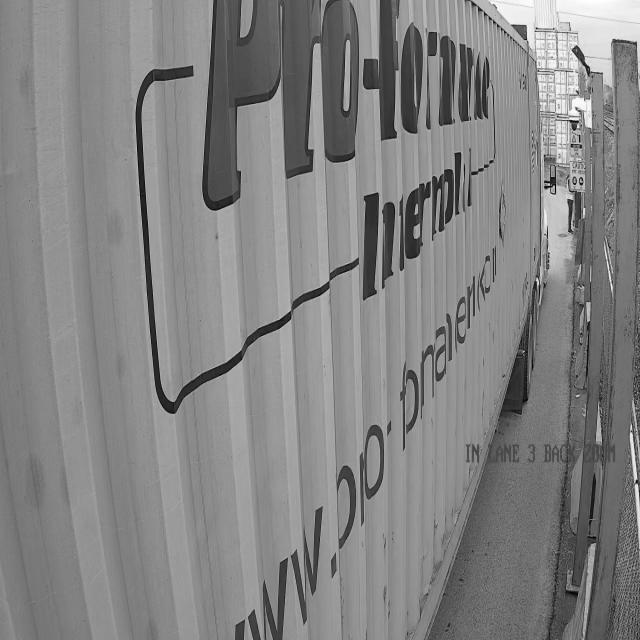truck_with_container: (0, 0, 550, 639)
